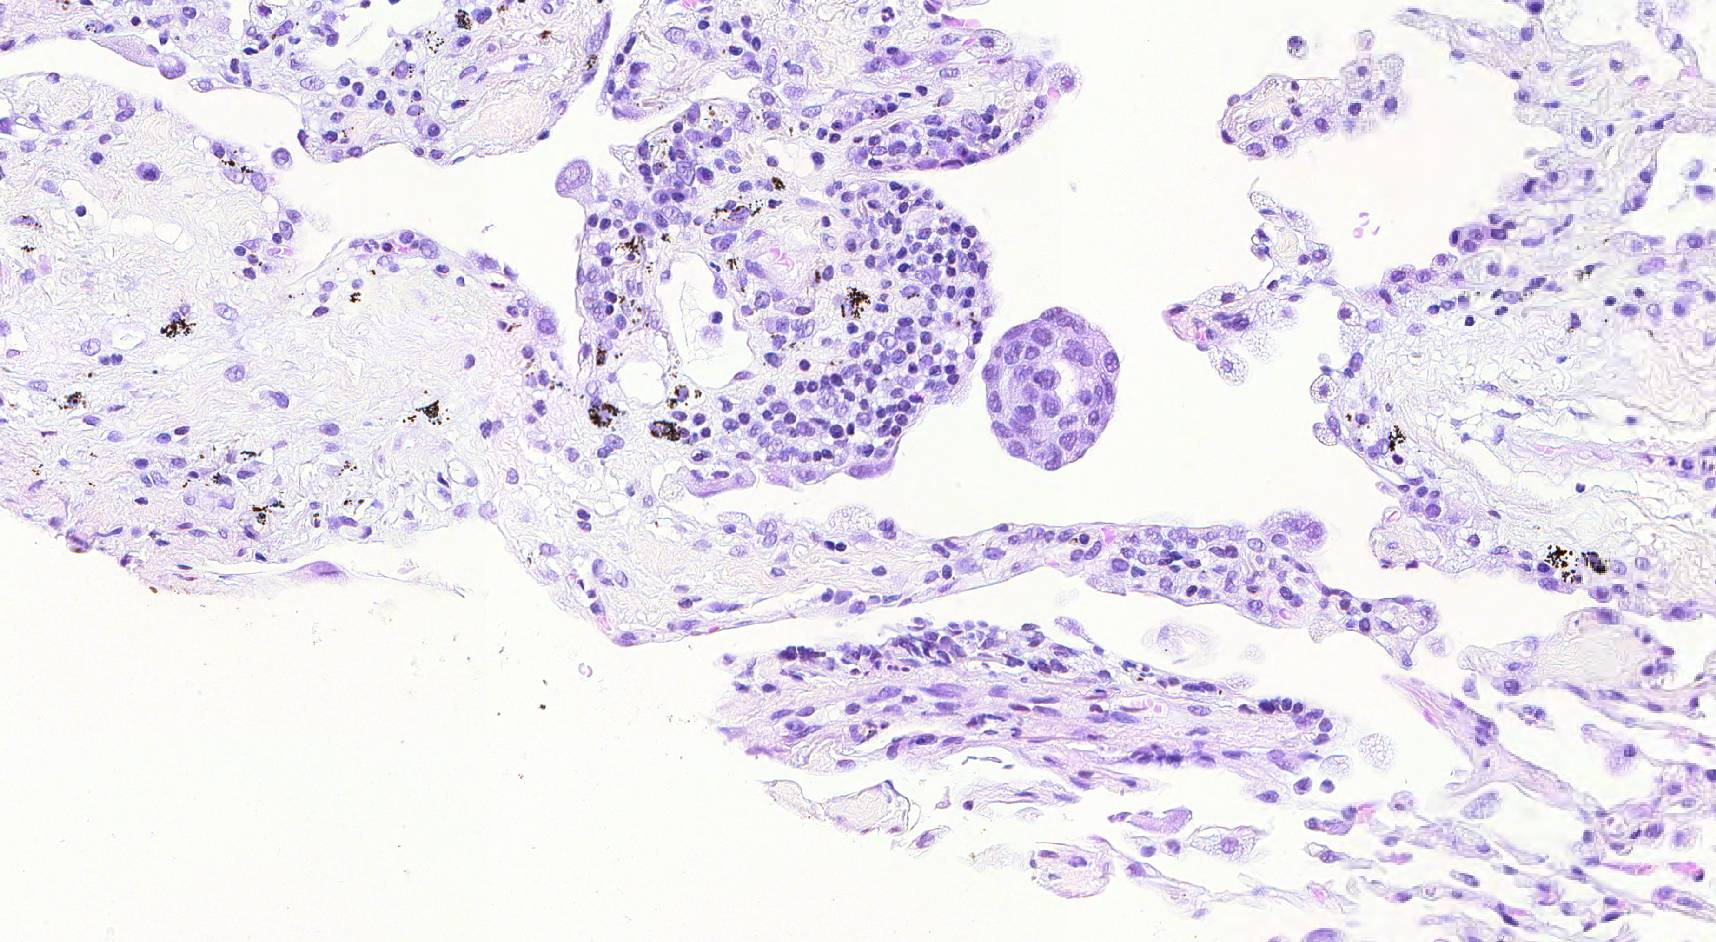stas: (983, 306, 1119, 471)
